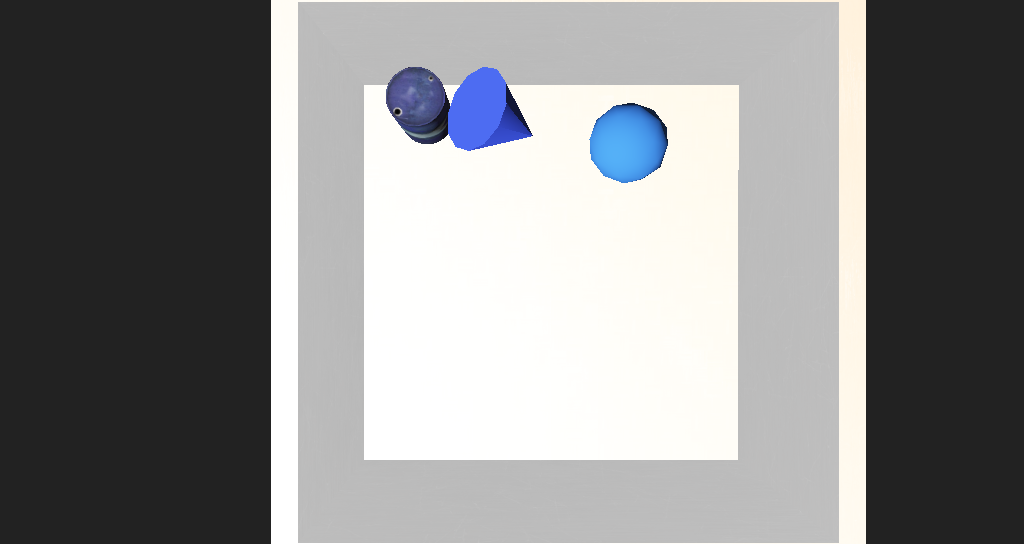cone: (371, 155, 424, 198)
cylinder: (408, 143, 522, 220)
sphere: (532, 172, 600, 220)
